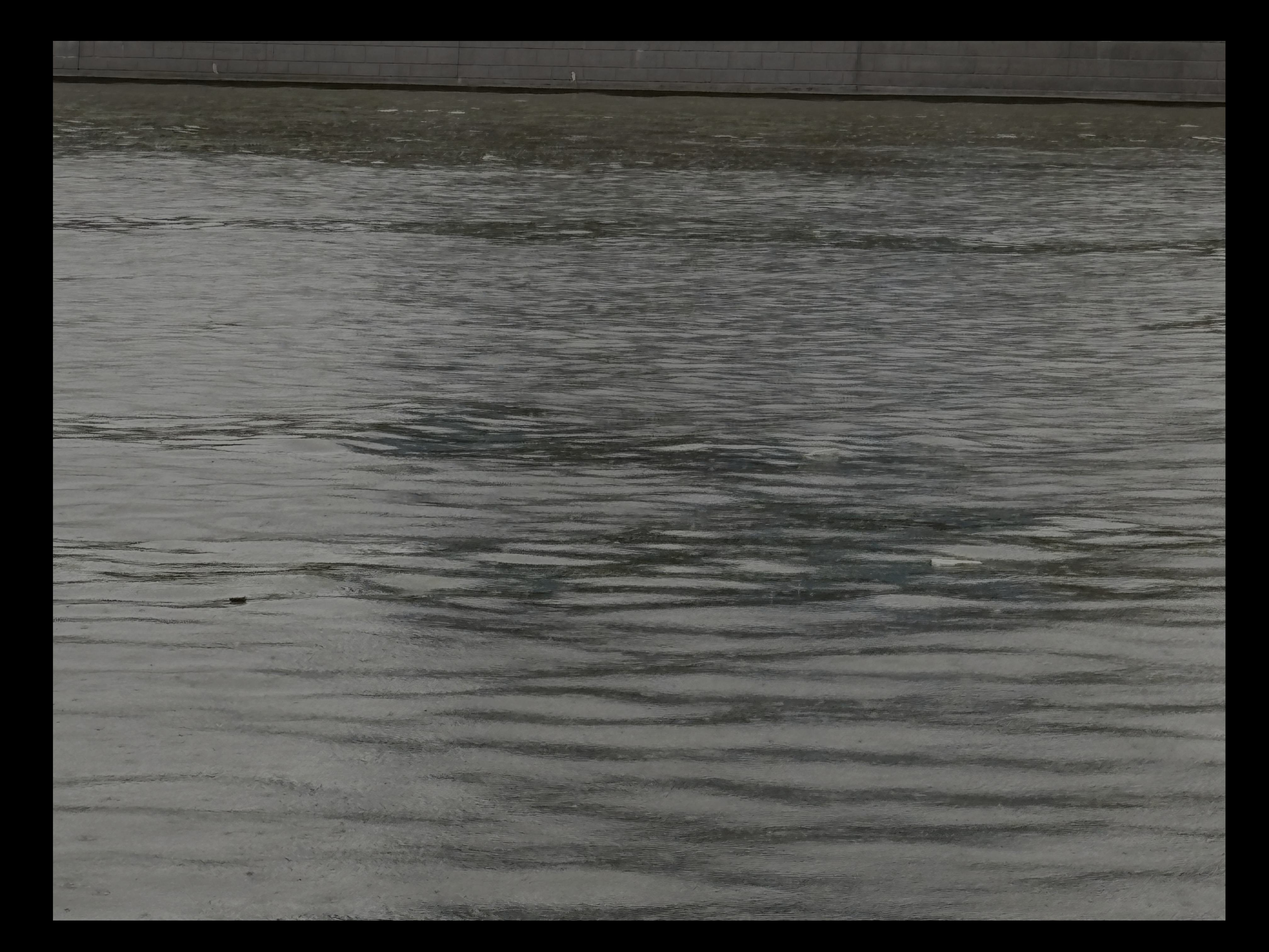Plastic wastes: (799, 442, 849, 463), (922, 555, 981, 571), (218, 592, 250, 610)
